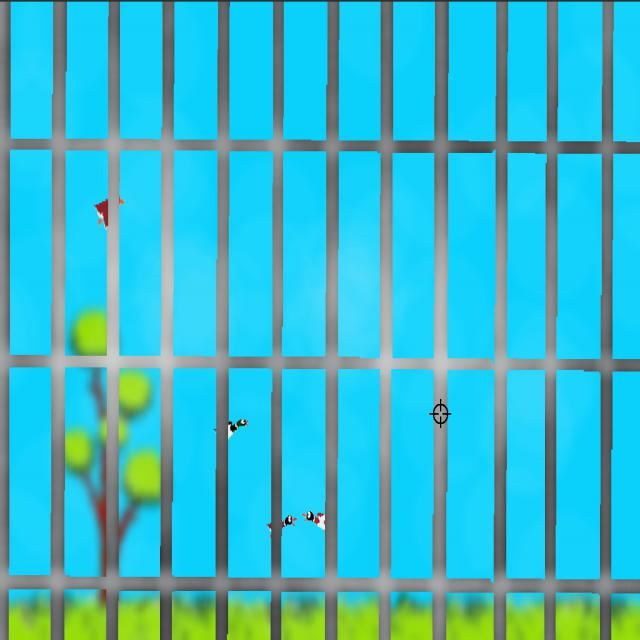duck: (211, 412, 254, 452), (92, 194, 125, 234), (301, 498, 330, 536), (264, 514, 298, 546)
